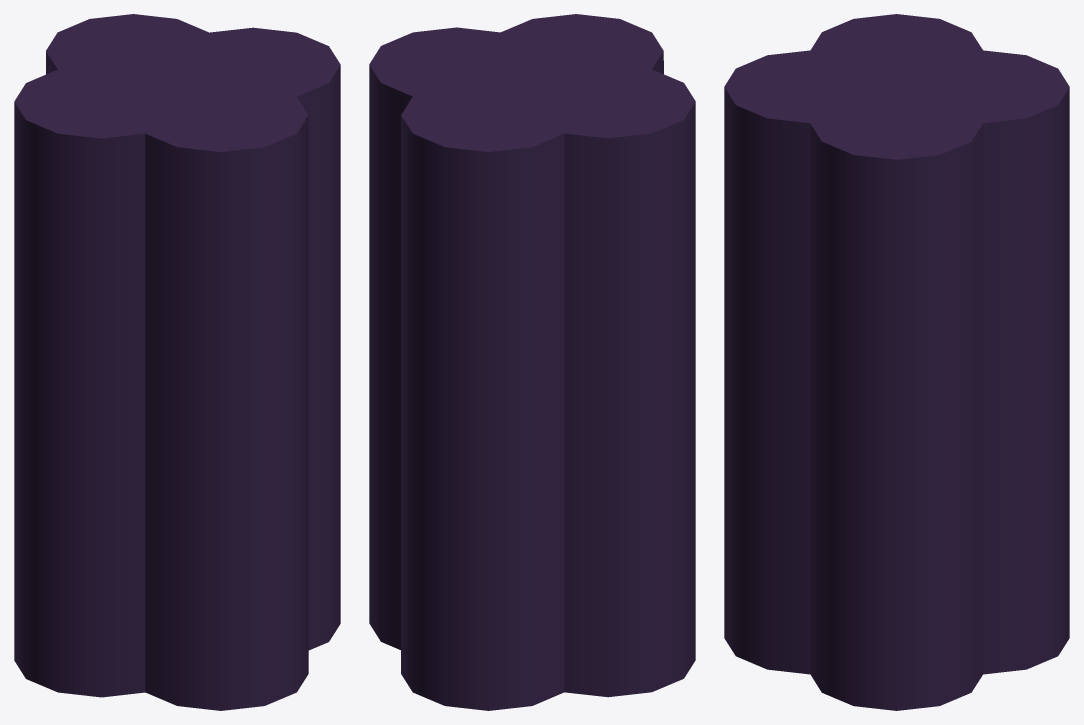
The model's file is Pillar_Flower_Mid_03.fbx.
The picture shows the model from 3 angles, left to right: view 1: azimuth 30°, elevation 25°; view 2: azimuth 150°, elevation 25°; view 3: azimuth 270°, elevation 25°; orthographic projection.
Parts seen in each view (by area): view 1: Pillar_Flower_Mid_03; view 2: Pillar_Flower_Mid_03; view 3: Pillar_Flower_Mid_03.
Part boxes in pixels (bbox=[...]): Pillar_Flower_Mid_03: bbox=[14, 14, 340, 710]; Pillar_Flower_Mid_03: bbox=[369, 14, 695, 710]; Pillar_Flower_Mid_03: bbox=[724, 14, 1069, 710].
Bounding box in the file's own units: 85.11 × 150 × 85.23.
